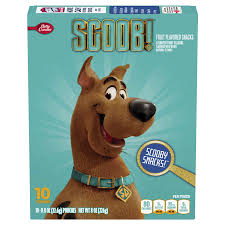scooby: (49, 55, 156, 210)
